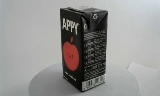appy: (55, 3, 101, 92)
